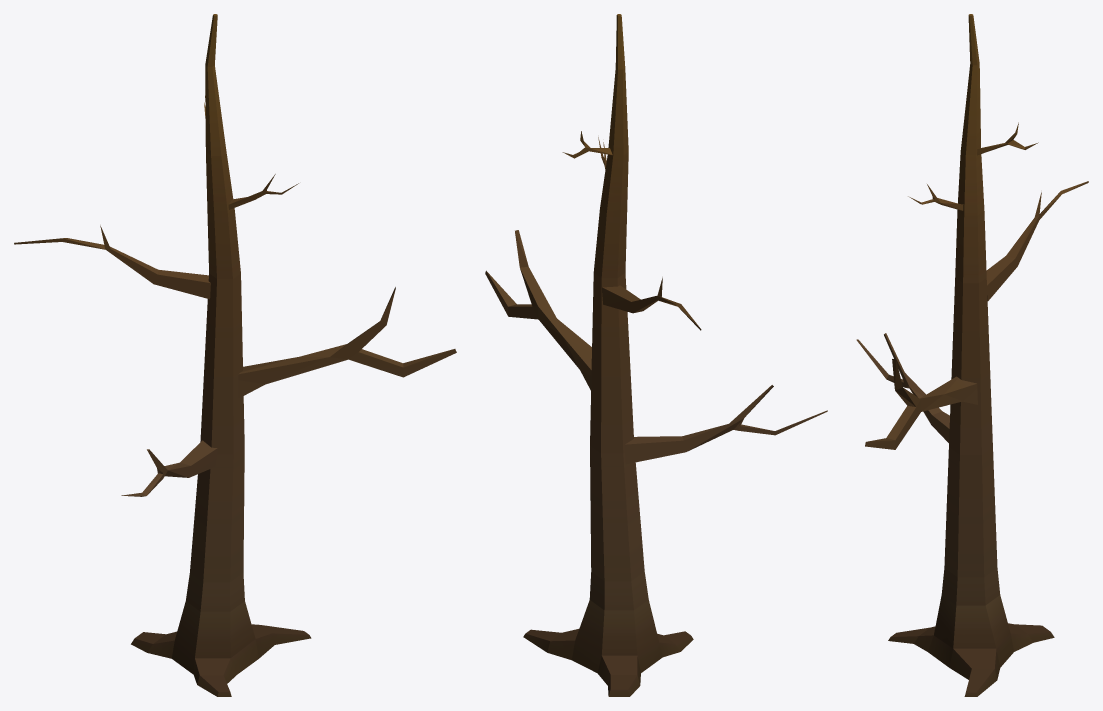
The model's file is Tree_03.obj.
3 views of the same model, side by side, from view 1: azimuth 30°, elevation 25°; view 2: azimuth 150°, elevation 25°; view 3: azimuth 270°, elevation 25° (orthographic).
Visible parts, largest first — view 1: Tree_03; view 2: Tree_03; view 3: Tree_03.
Part boxes in pixels (box(x1,y1,x2,y2)): Tree_03: box(14, 14, 456, 696); Tree_03: box(485, 14, 827, 696); Tree_03: box(856, 14, 1088, 696).
Bounding box in the file's own units: 2.43 × 4.41 × 1.46.
Materials: 1 (1 with a texture image).
